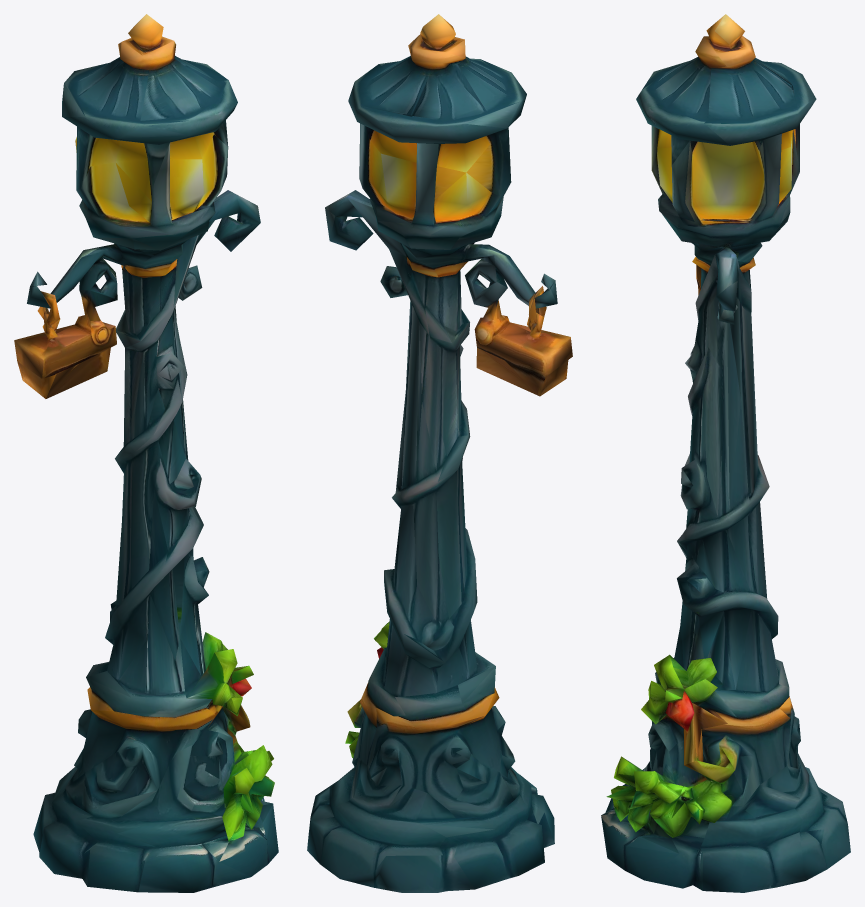
The model's file is lamp.glb.
3 renders of one model, left to right at view 1: azimuth 30°, elevation 25°; view 2: azimuth 150°, elevation 25°; view 3: azimuth 270°, elevation 25°, orthographic.
Parts seen in each view (by area): view 1: Mesh_0; view 2: Mesh_0; view 3: Mesh_0.
Part boxes in pixels (x1,y1,x2,y2): Mesh_0: (14,14,278,892); Mesh_0: (307,14,572,892); Mesh_0: (601,14,850,892).
Size of the model in its own units: 0.5677 by 1.9 by 0.5238.
Materials: 1 (1 with a texture image).
